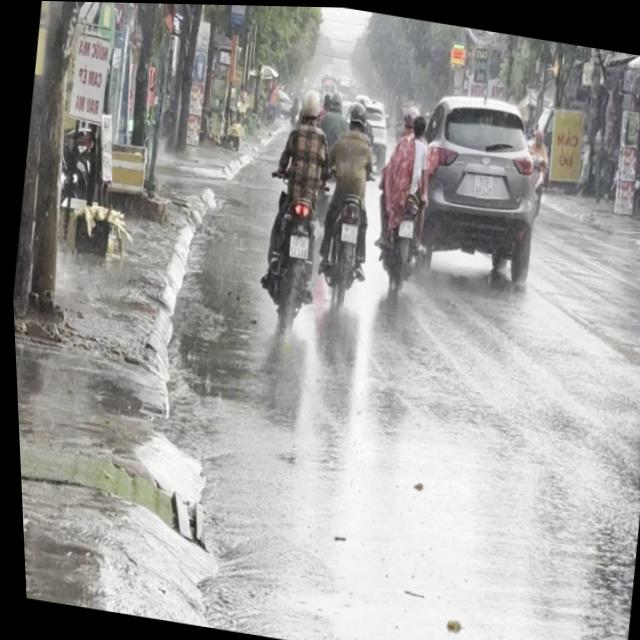helmet: (297, 85, 324, 123), (346, 96, 369, 131), (402, 102, 421, 133)
licenseplate: (245, 78, 345, 331), (306, 92, 391, 305), (362, 97, 442, 291), (612, 111, 640, 436)
motorcyclist: (412, 111, 428, 137)
nohelmet: (287, 232, 309, 257), (339, 221, 357, 241), (396, 217, 413, 237)
